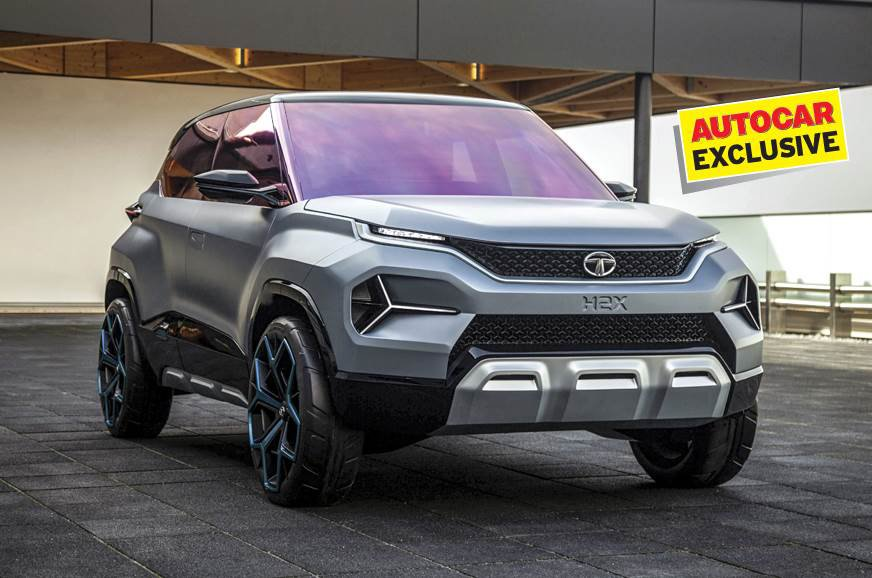car: (87, 85, 769, 506)
